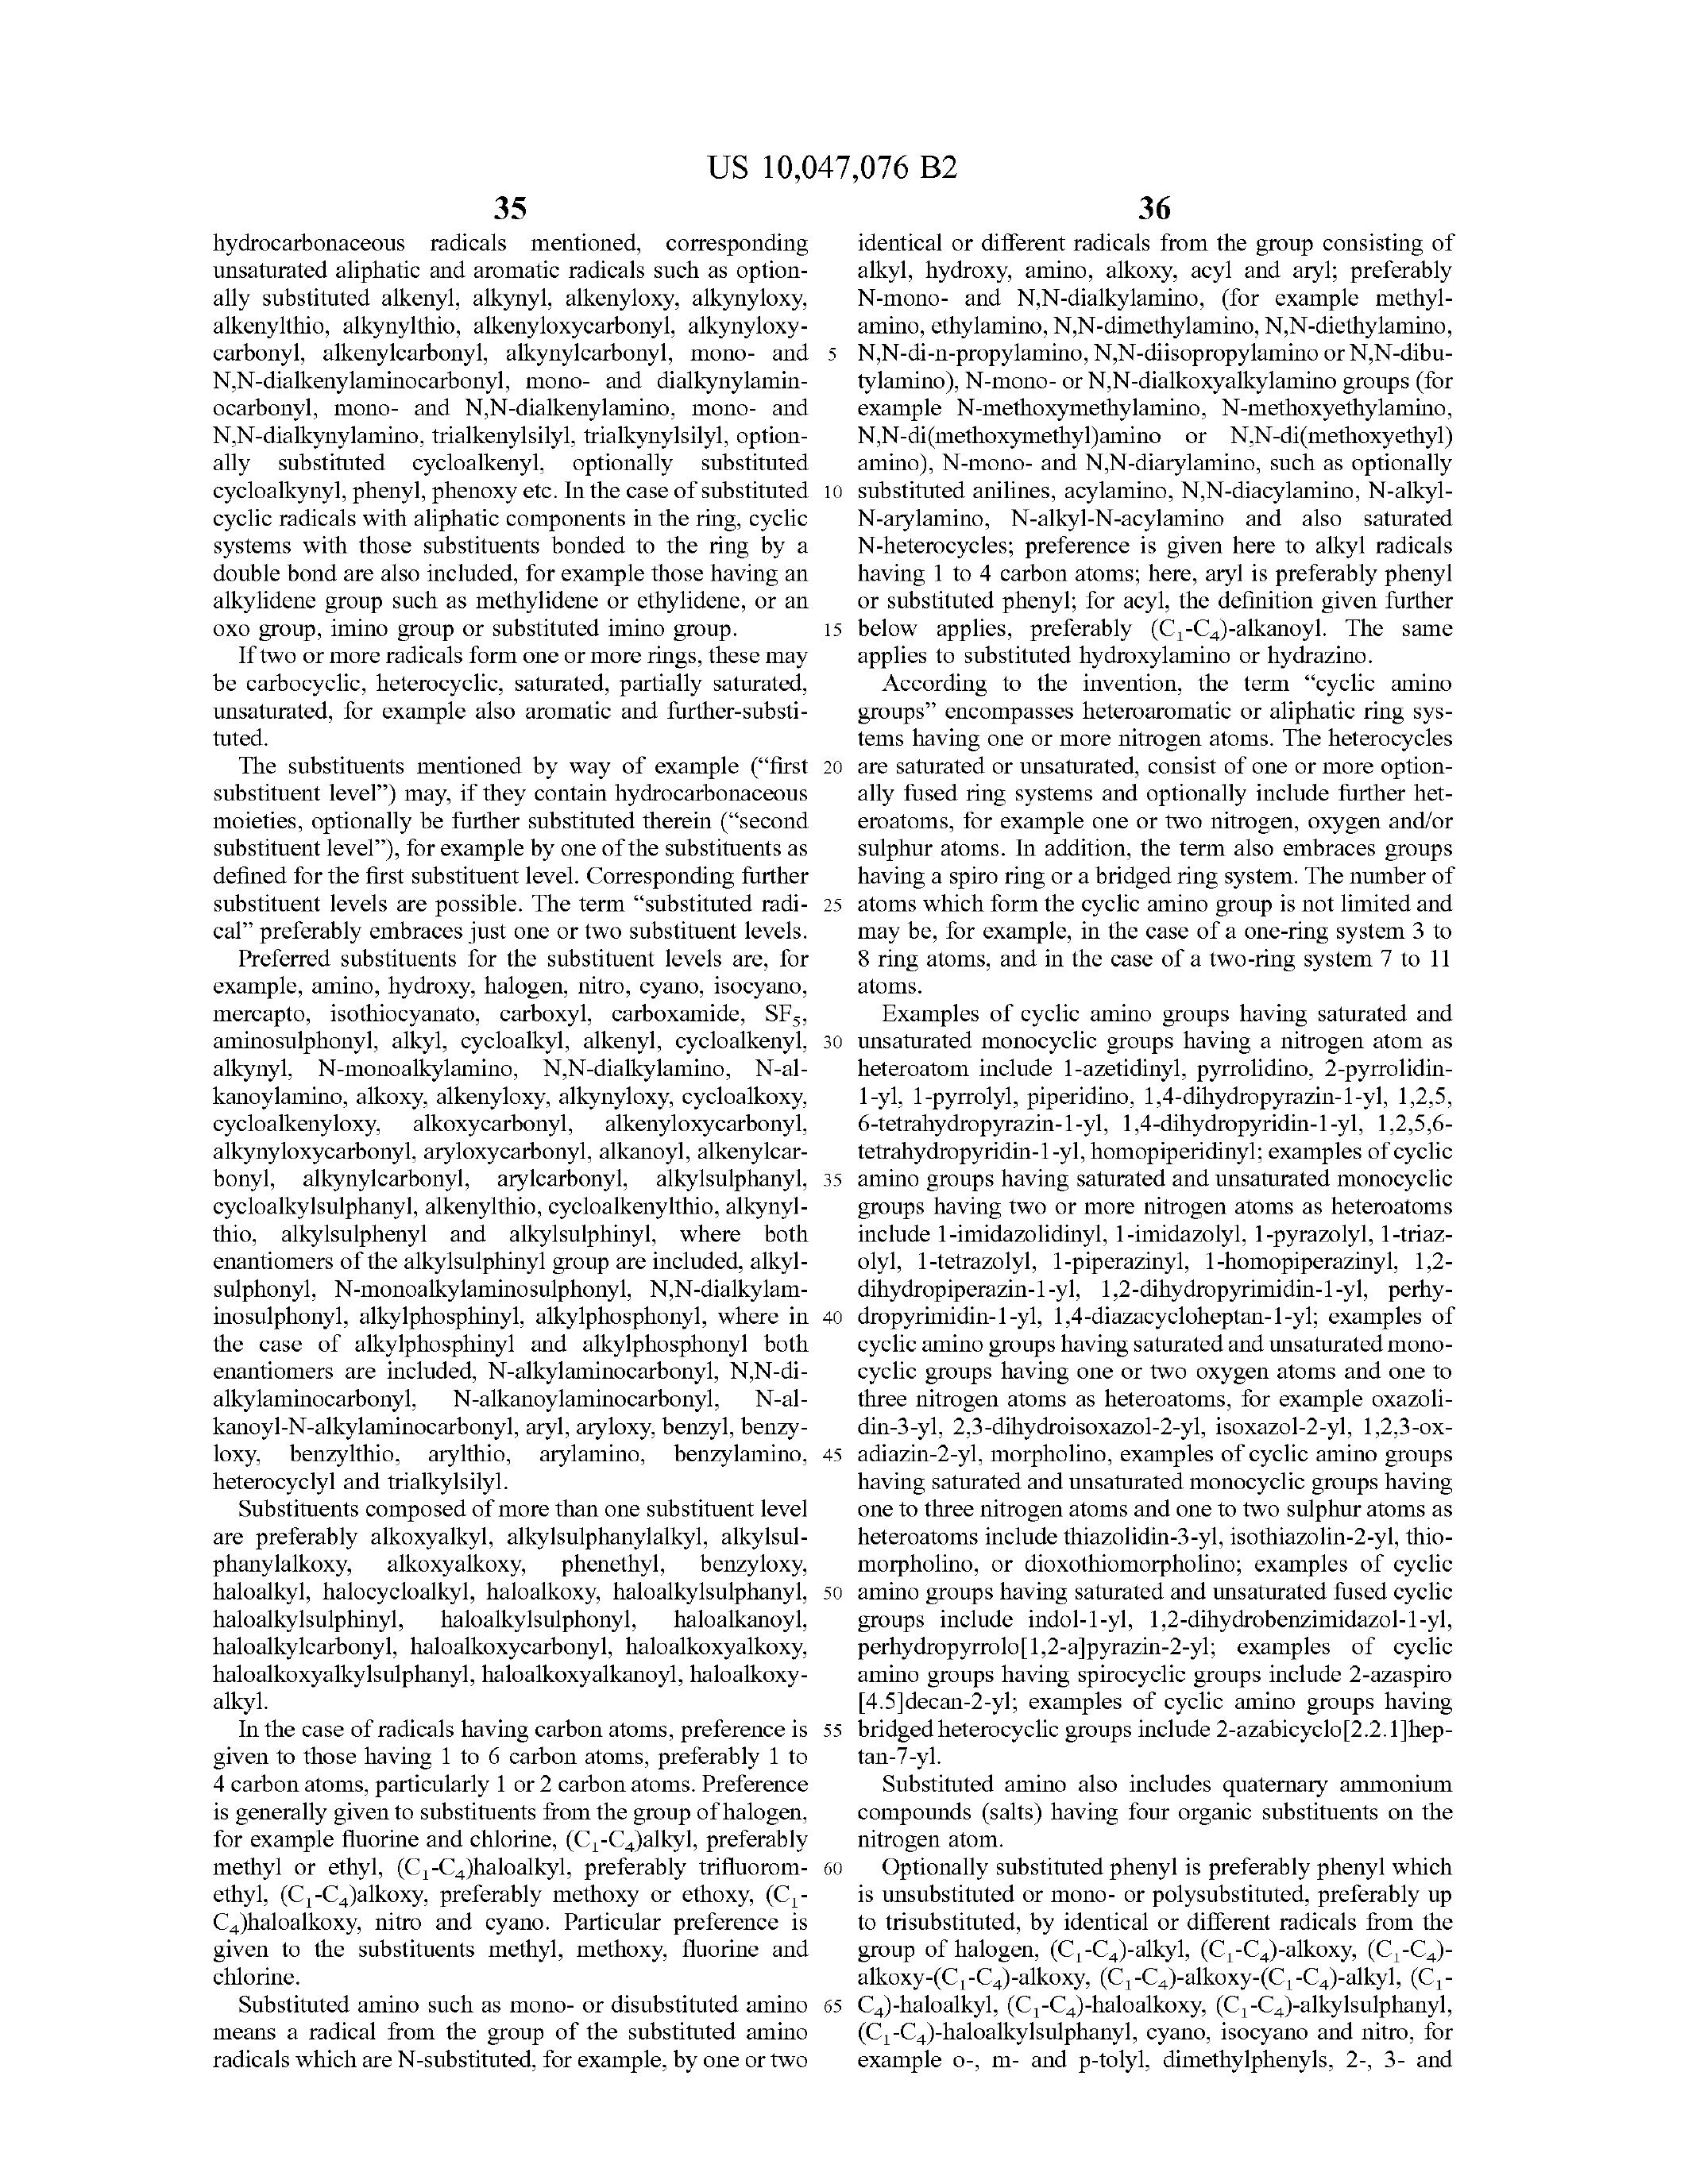substitutes: (195, 1507, 816, 1705)
